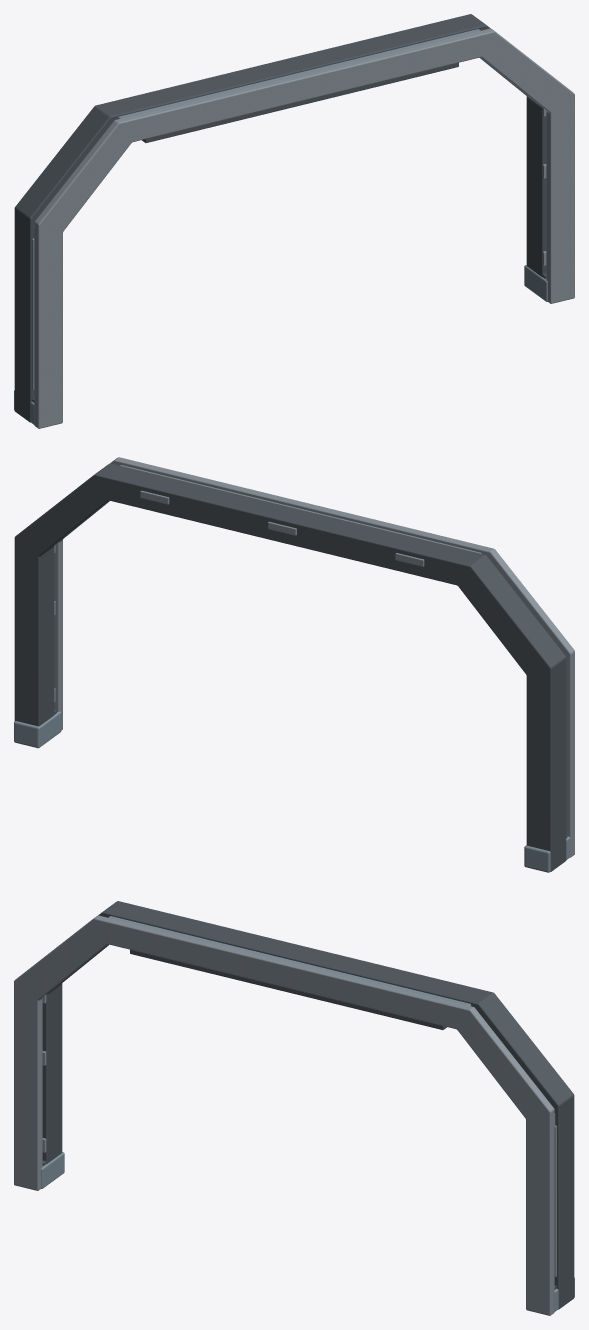
File: NA_GalleryPortal_G02_LOD0.fbx
The picture shows the model from 3 angles, top to bottom: view 1: azimuth 30°, elevation 25°; view 2: azimuth 150°, elevation 25°; view 3: azimuth 330°, elevation 25°; orthographic projection.
Visible parts, largest first — view 1: NA_GalleryPortal_G02_LOD0; view 2: NA_GalleryPortal_G02_LOD0; view 3: NA_GalleryPortal_G02_LOD0.
Boxes of the visible parts, x1,y1,x2,y2 form: NA_GalleryPortal_G02_LOD0: (14, 14, 574, 428); NA_GalleryPortal_G02_LOD0: (14, 457, 574, 872); NA_GalleryPortal_G02_LOD0: (14, 901, 574, 1315).
Size of the model in its own units: 30.3 by 15.47 by 2.51.
